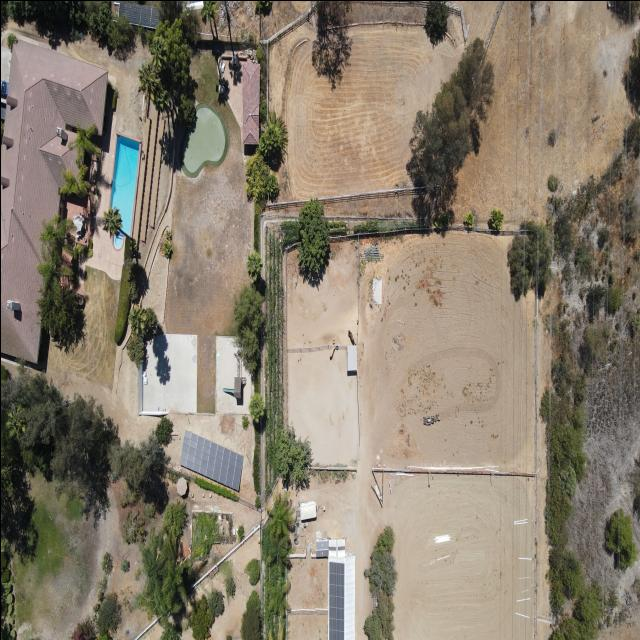solar-panels: (169, 427, 252, 491), (115, 0, 163, 28), (328, 560, 343, 640)
